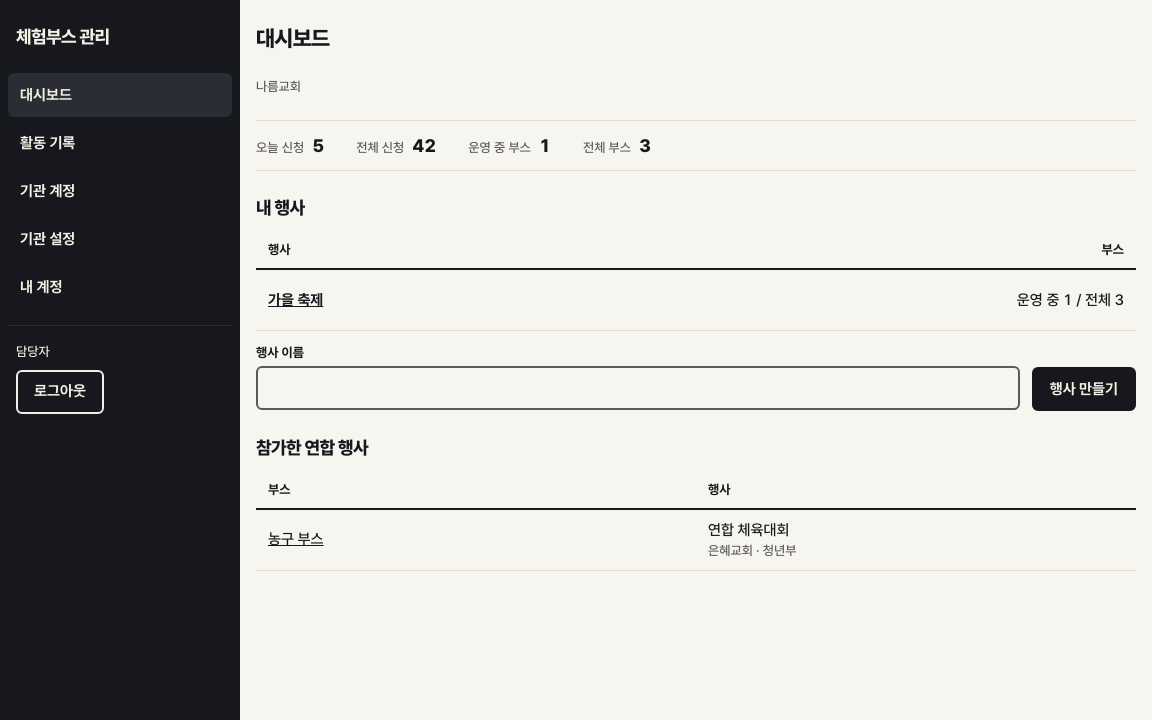
관리자 메뉴 › 로그아웃 실패는 알리고 화면을 유지한다
Click the button "로그아웃" at (60, 392), box [16, 370, 104, 414]
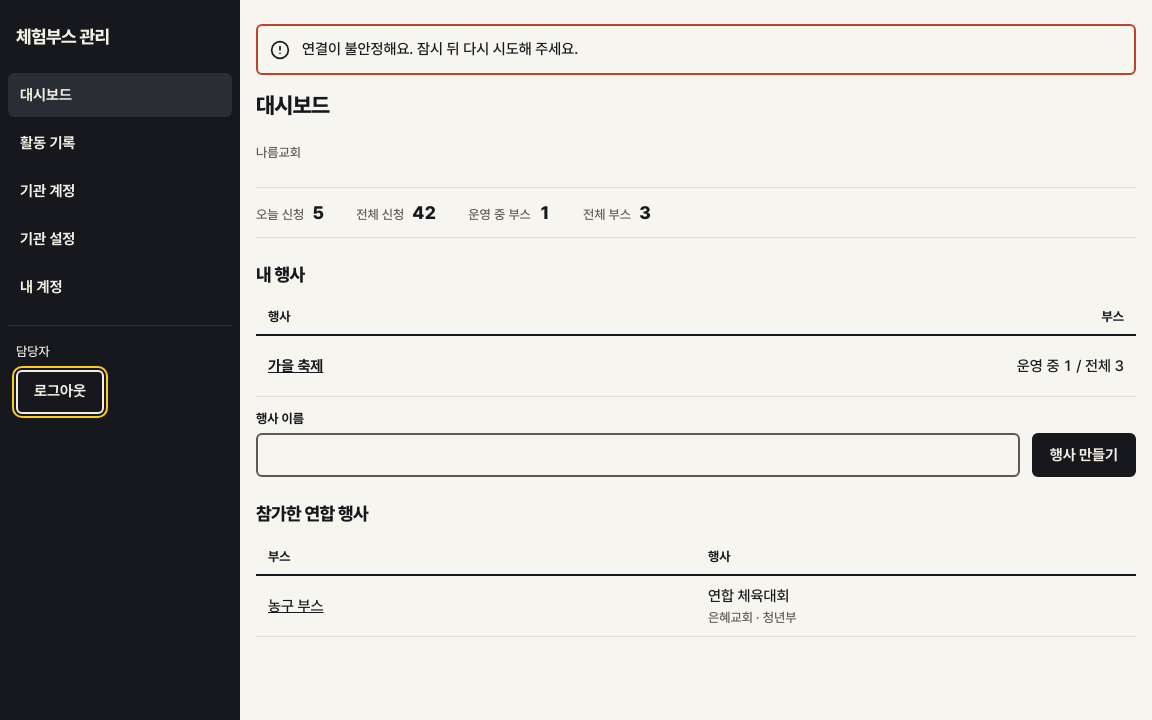
Expected: the text "연결이 불안정해요. 잠시 뒤 다시 시도해 주세요." is shown, [302, 40, 578, 58]
